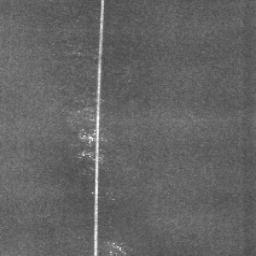Bright scratch: (94, 0, 105, 256)
